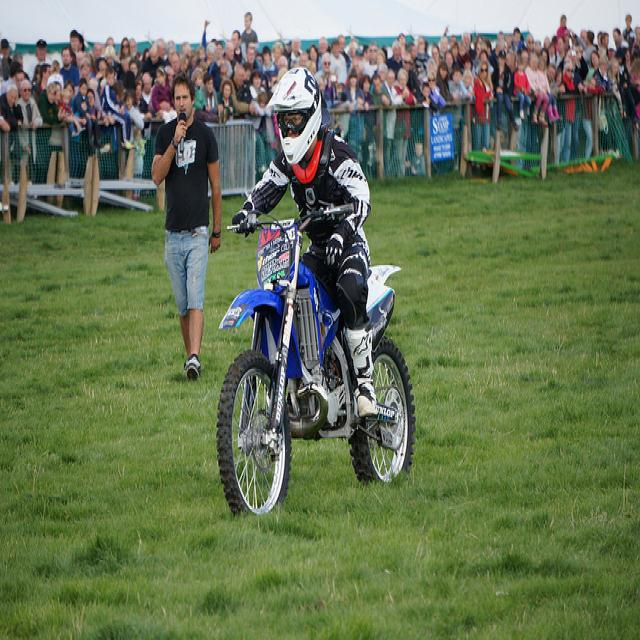motor: (216, 201, 416, 521)
